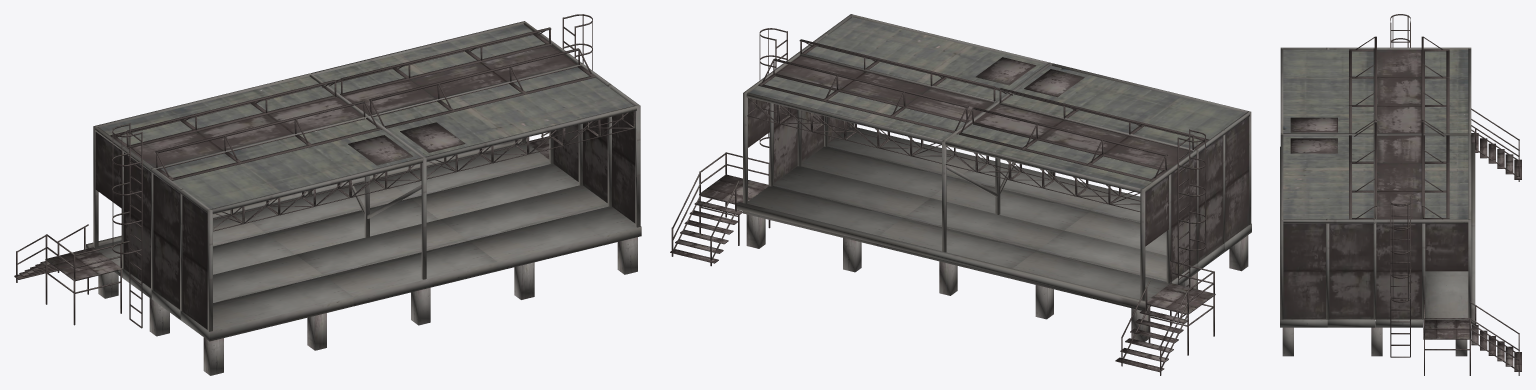
The model's file is Building_1.glb.
3 views of the same model, side by side, from view 1: azimuth 30°, elevation 25°; view 2: azimuth 150°, elevation 25°; view 3: azimuth 270°, elevation 25° (orthographic). The views are drawn at different scales.
Visible parts, largest first — view 1: Building_1; view 2: Building_1; view 3: Building_1.
Boxes of the visible parts, box(x1,y1,x2,y2) form: Building_1: box(14, 14, 641, 375); Building_1: box(670, 14, 1251, 375); Building_1: box(1280, 14, 1521, 375).
Bounding box in the file's own units: 27.84 × 9.9 × 13.46.
1 material, 1 textured.
